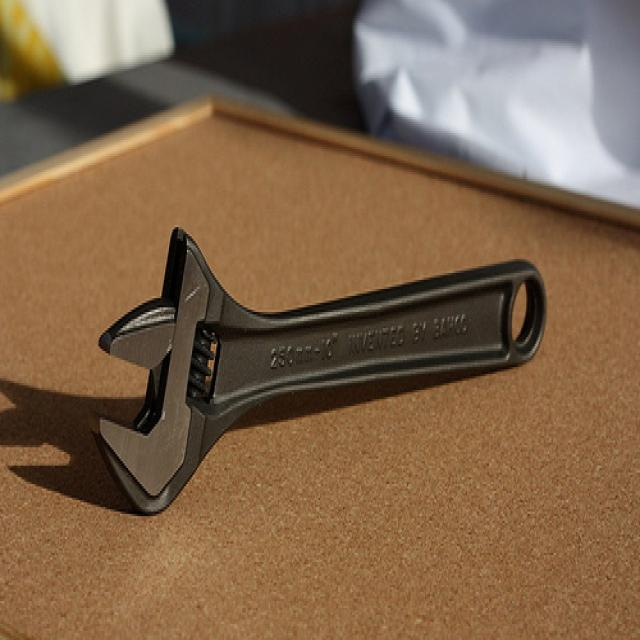wrench: (44, 188, 638, 516)
